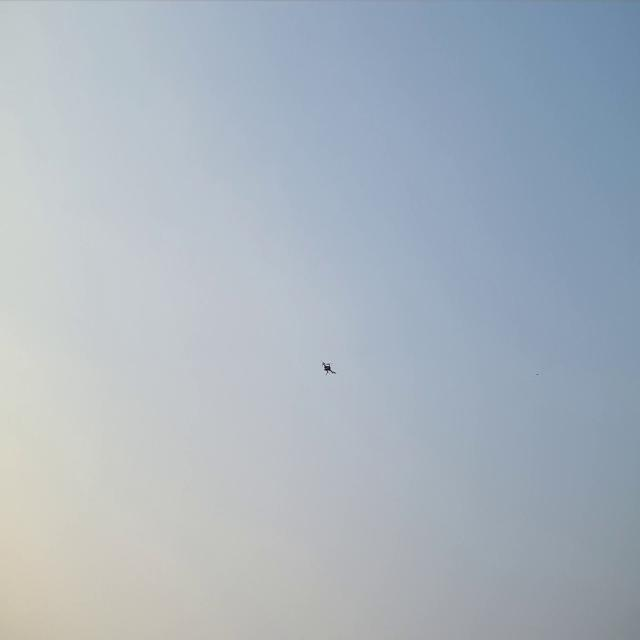UAV: (319, 357, 339, 379)
